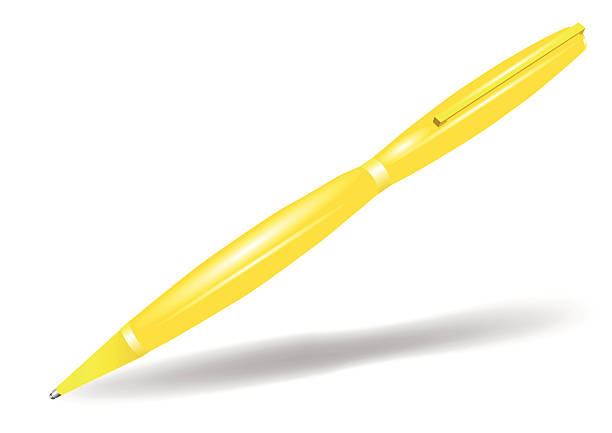pen: (34, 19, 597, 406)
